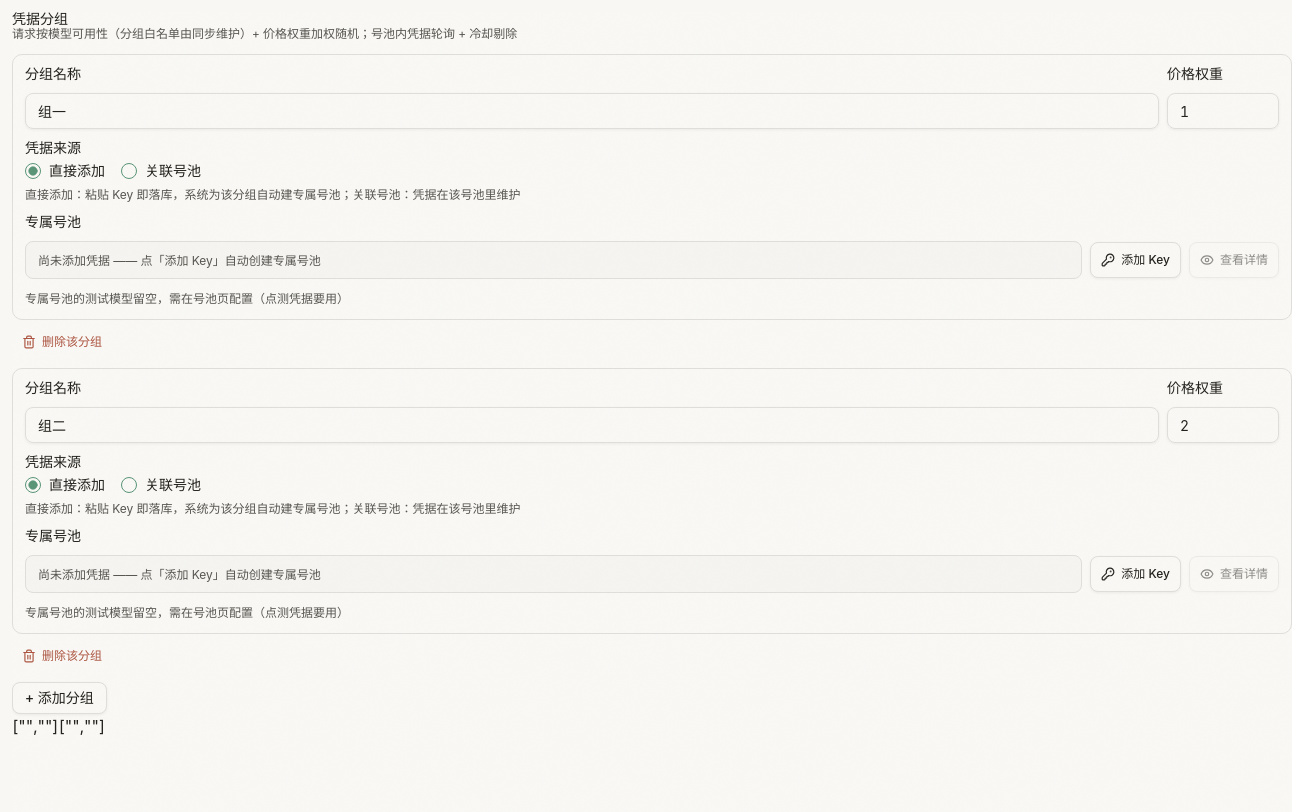
Test: 凭据分组区 - 取 Key 模式（直接添加 / 关联号池） › 切到「关联号池」：出现号池下拉、隐藏「添加 Key」按钮（Key 不归本表单管）
The width and height of the screenshot is (1292, 812).
Click the 2nd radio button named "关联号池" at [129, 171], box [121, 163, 137, 179]
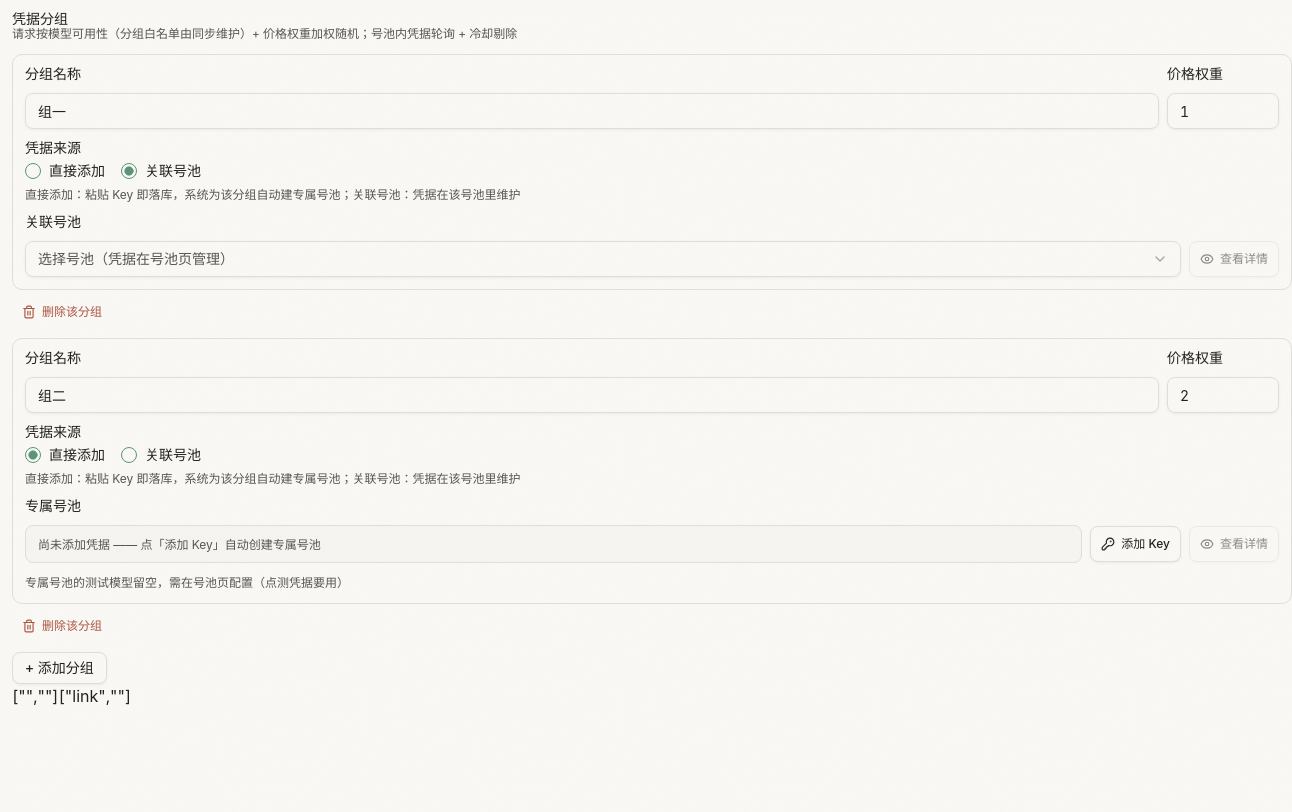
Now the text "选择号池（凭据在号池页管理）" is shown once, box [38, 249, 234, 269]
Now the number of buttons "添加 Key" is 1, box [1090, 526, 1181, 562]
